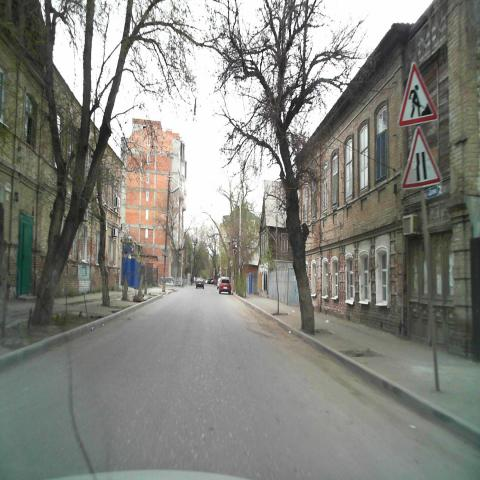1_20_3: (400, 126, 444, 188)
